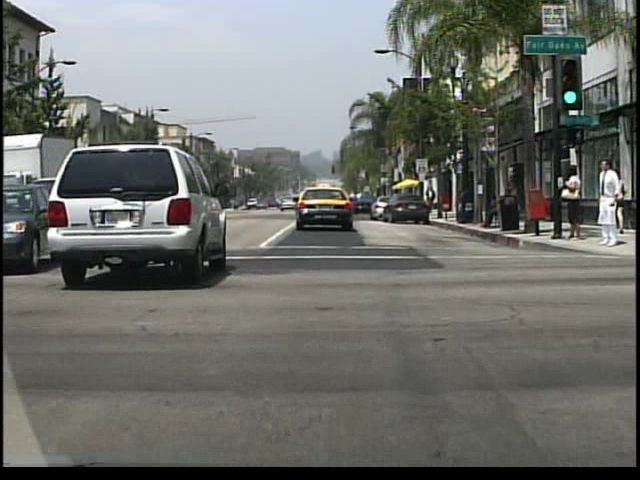person: (594, 159, 621, 248), (557, 162, 581, 240), (607, 169, 628, 235), (476, 190, 503, 231), (499, 179, 513, 226), (425, 185, 436, 207)
